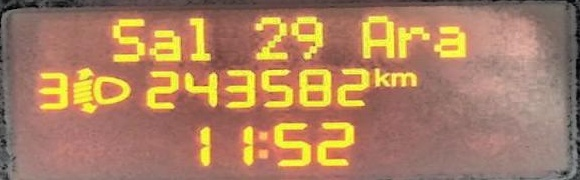1: (191, 120, 217, 169), (234, 122, 253, 167)
2: (314, 118, 355, 168), (252, 13, 289, 62), (145, 67, 179, 110), (336, 65, 369, 108)
3: (34, 68, 69, 111), (222, 66, 256, 109)
4: (181, 67, 219, 108)
5: (272, 119, 314, 167), (258, 65, 294, 108)
8: (296, 65, 333, 108)
9: (289, 14, 326, 59)
X: (107, 15, 147, 62), (358, 13, 395, 60), (184, 12, 214, 63), (146, 24, 185, 61), (396, 23, 428, 59), (435, 22, 466, 59), (255, 127, 271, 162), (386, 69, 417, 86), (370, 66, 389, 87)
